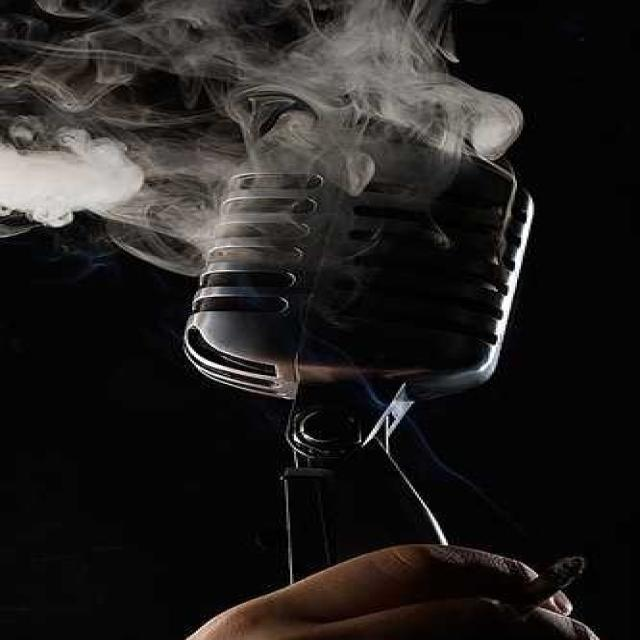microphone: (184, 131, 522, 583)
